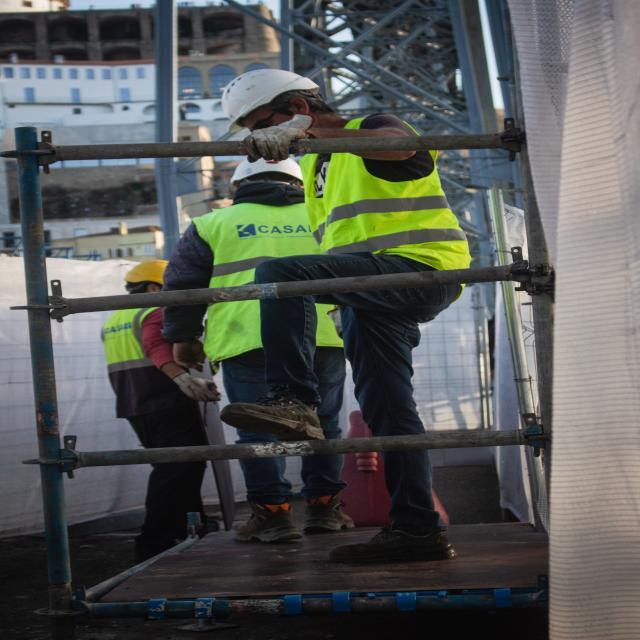helmet: (187, 54, 362, 120), (218, 134, 319, 192), (112, 243, 181, 300)
shoes: (204, 375, 360, 459), (308, 493, 467, 568), (234, 498, 323, 551), (295, 492, 365, 540), (124, 510, 197, 554)
vest: (274, 127, 499, 289), (187, 198, 362, 374), (96, 287, 176, 389)
